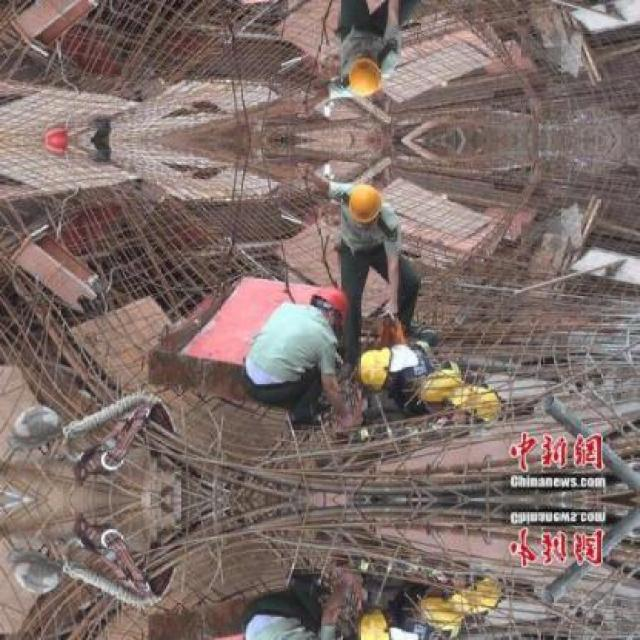helmet: (315, 280, 360, 332), (340, 182, 392, 225), (358, 346, 397, 402)
